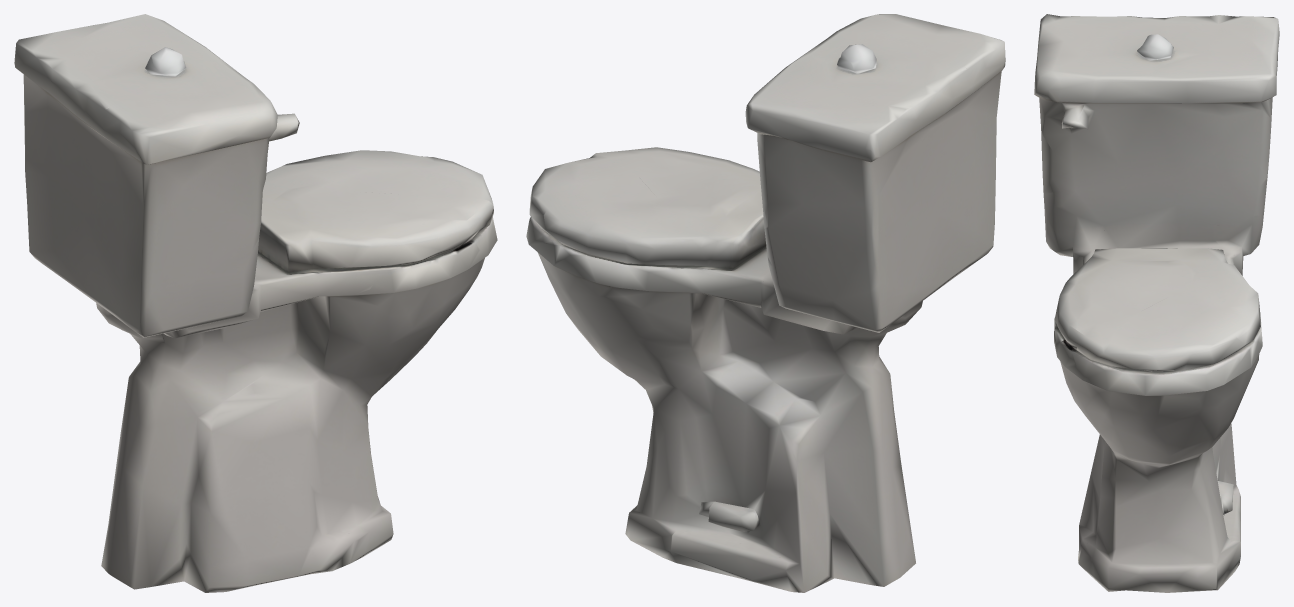
File: toilet.glb
3 renders of one model, left to right at view 1: azimuth 30°, elevation 25°; view 2: azimuth 150°, elevation 25°; view 3: azimuth 270°, elevation 25°, orthographic. The views are drawn at different scales.
Parts seen in each view (by area): view 1: tripo_node_2a846730-bcd4-4a6e-8182-6a3b4a916a69; view 2: tripo_node_2a846730-bcd4-4a6e-8182-6a3b4a916a69; view 3: tripo_node_2a846730-bcd4-4a6e-8182-6a3b4a916a69.
Boxes of the visible parts, <box> form: tripo_node_2a846730-bcd4-4a6e-8182-6a3b4a916a69: <box>14,14,497,592</box>; tripo_node_2a846730-bcd4-4a6e-8182-6a3b4a916a69: <box>526,14,1005,592</box>; tripo_node_2a846730-bcd4-4a6e-8182-6a3b4a916a69: <box>1034,14,1279,592</box>.
Bounding box in the file's own units: 0.8137 × 1 × 0.4728.
Materials: 1 (1 with a texture image).
